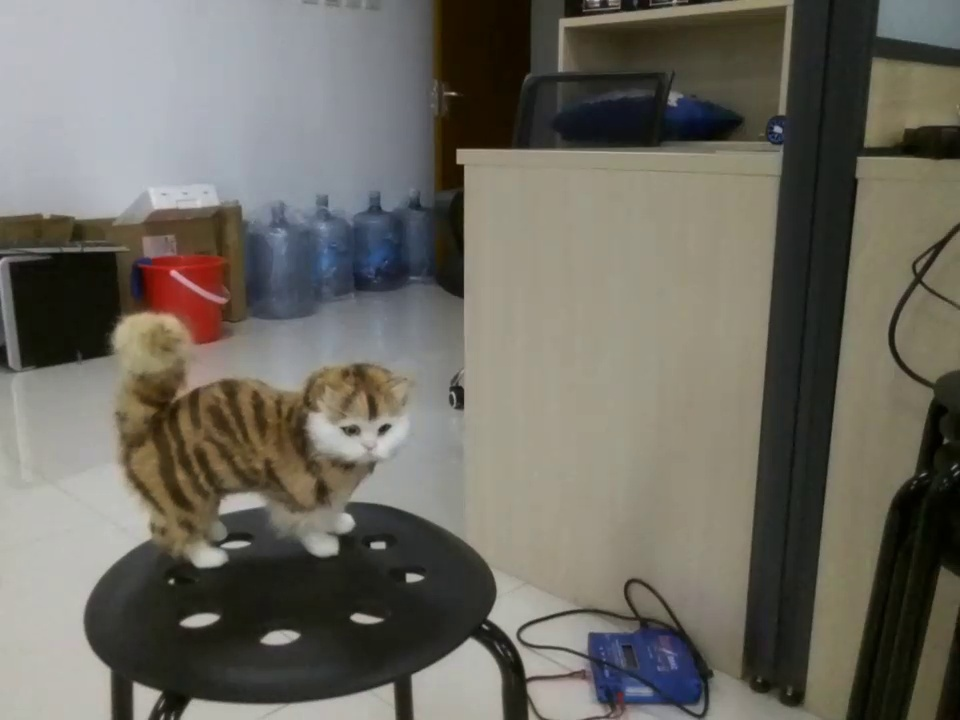cat: (108, 311, 412, 570)
